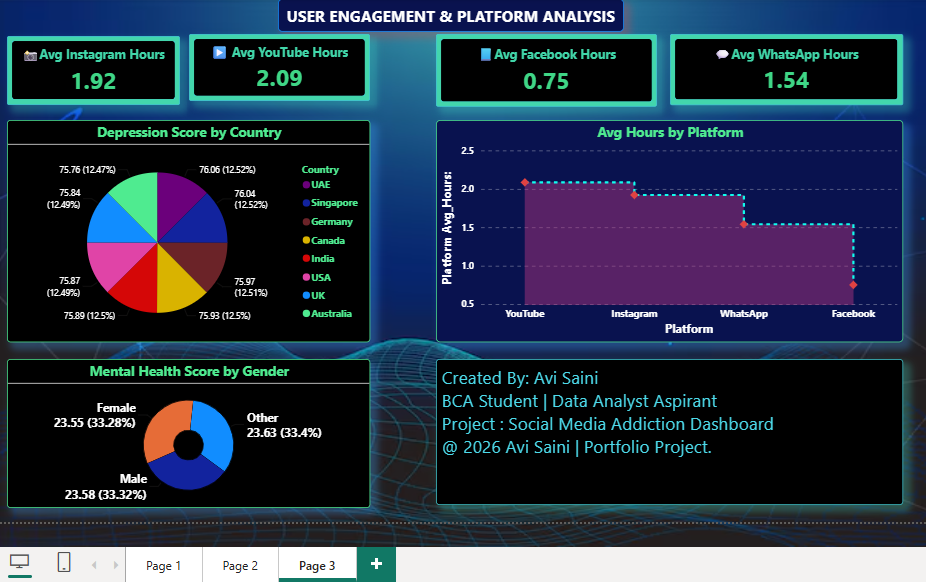

What the dashboard file says about the page in this screenshot:
{"tool":"powerbi","page":{"name":"Page 3","canvas":[1280,720],"ordinal":2},"visuals":[{"type":"textbox","box":[385.4,0,476.2,45.4],"z":0},{"type":"cardVisual","fields":{"Data":["Avg(SocialMedia.Avg Instagram Hours)"]},"box":[12.4,50.9,238.1,95],"z":1000},{"type":"cardVisual","fields":{"Data":["Avg(SocialMedia.Avg Facebook Hours)"]},"box":[602.8,48.2,304.2,100.5],"z":2000},{"type":"cardVisual","fields":{"Data":["Avg(SocialMedia.Avg YouTube Hours)"]},"box":[262.9,48.2,249.1,92.2],"z":3000},{"type":"cardVisual","fields":{"Data":["Avg(SocialMedia.Avg WhatsApp Hours)"]},"box":[924.9,48.2,320.7,97.7],"z":4000},{"type":"textbox","box":[602.8,495.5,642.8,200.9],"z":4001},{"type":"lineChart","title":"Avg Hours by Platform","fields":{"Category":["Platform.Platform"],"Y":["SocialMedia.Platform Avg_Hours"]},"box":[602.8,166.5,642.8,305.5],"z":4004},{"type":"pieChart","title":"Depression Score by Country","fields":{"Category":["SocialMedia.Country"],"Y":["Avg(SocialMedia.Depression_Score)"]},"box":[12.4,166.5,499.6,305.5],"z":4005},{"type":"donutChart","title":"Mental Health Score by Gender","fields":{"Y":["Avg(SocialMedia.Mental_Health_Score)"],"Category":["SocialMedia.Gender"]},"box":[12.4,495.5,499.6,205.1],"z":4006}]}

Visuals, with their boxes on the page's 1280x720 design canvas (x1, y1, x2, y2). These are canvas units, not pixel positions in the 926x582 screenshot, which may show the page scaled, cropped or inside an application window:
textbox: bbox=[385, 0, 862, 45]
cardVisual - Avg(SocialMedia.Avg Instagram Hours): bbox=[12, 51, 250, 146]
cardVisual - Avg(SocialMedia.Avg Facebook Hours): bbox=[603, 48, 907, 149]
cardVisual - Avg(SocialMedia.Avg YouTube Hours): bbox=[263, 48, 512, 140]
cardVisual - Avg(SocialMedia.Avg WhatsApp Hours): bbox=[925, 48, 1246, 146]
textbox: bbox=[603, 496, 1246, 696]
"Avg Hours by Platform" lineChart: bbox=[603, 166, 1246, 472]
"Depression Score by Country" pieChart: bbox=[12, 166, 512, 472]
"Mental Health Score by Gender" donutChart: bbox=[12, 496, 512, 701]
